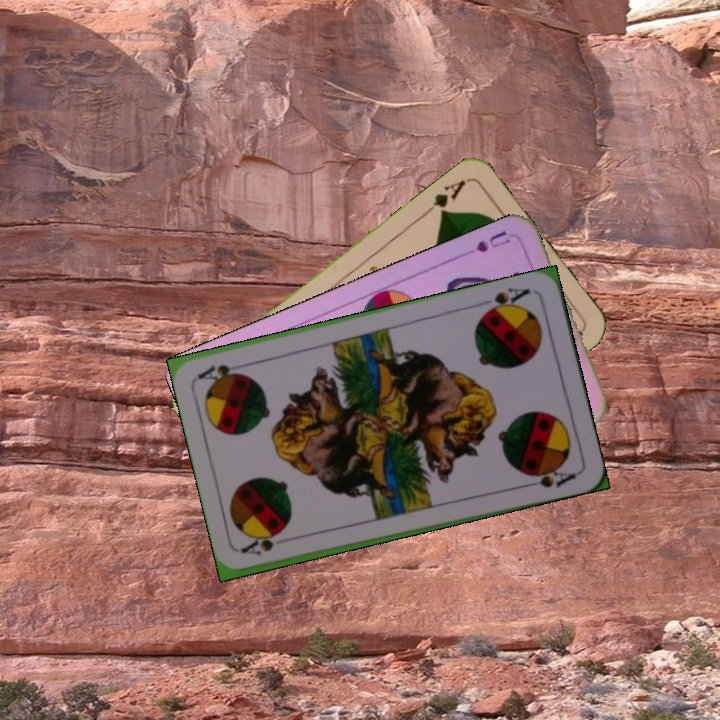GA: (420, 175, 469, 219)
SA: (480, 283, 533, 318), (238, 532, 279, 559)
SU: (456, 227, 513, 260)
